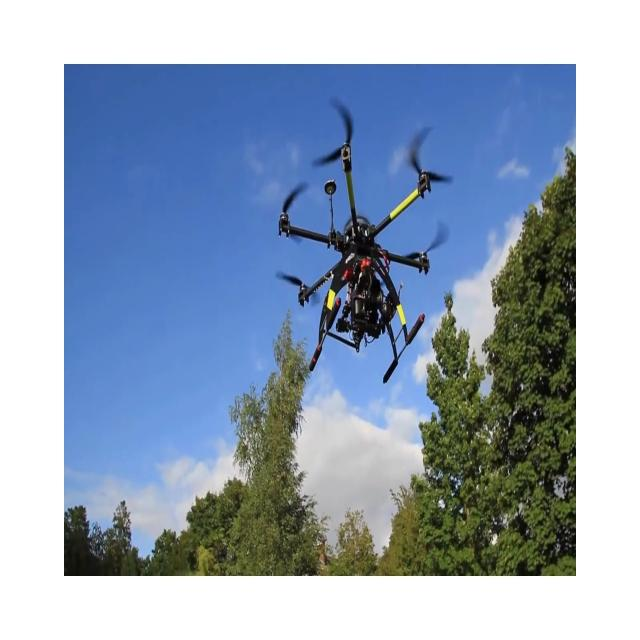drone: (276, 95, 454, 384)
